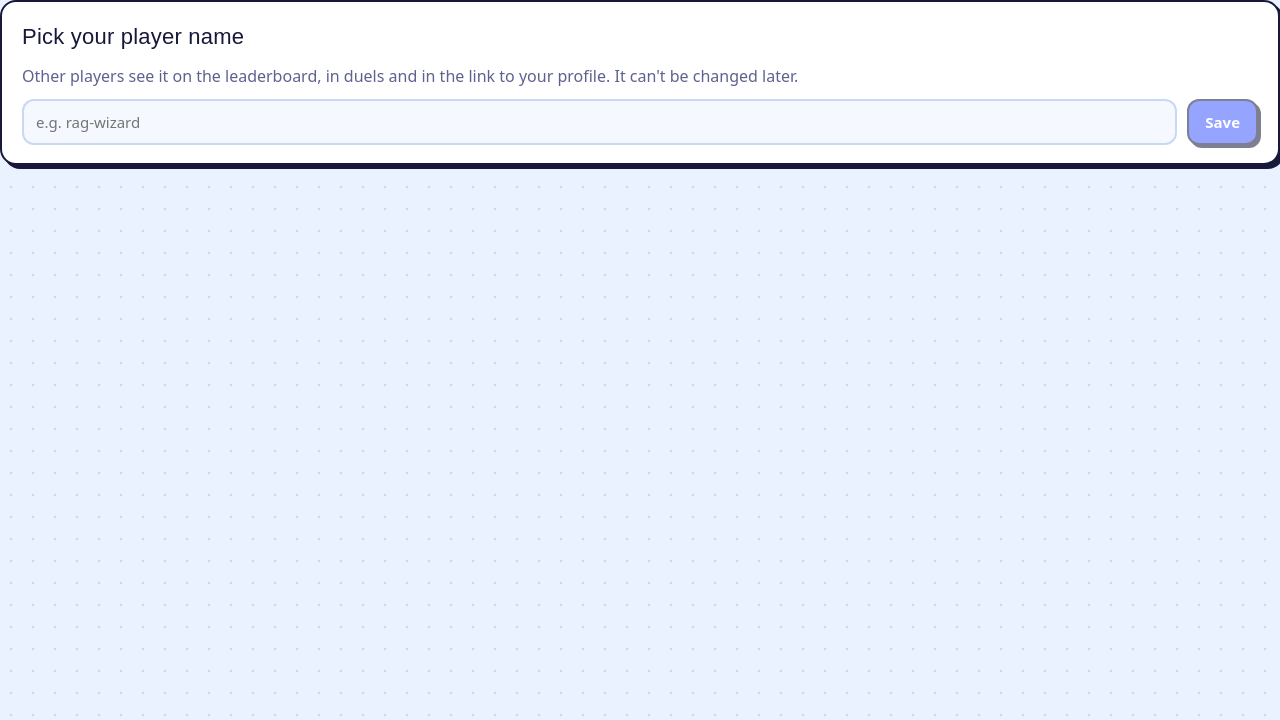
PlayerNameForm › checks the name before sending it
In the field named "Player name": (600,122) [22,99,1177,145], type "no spaces"
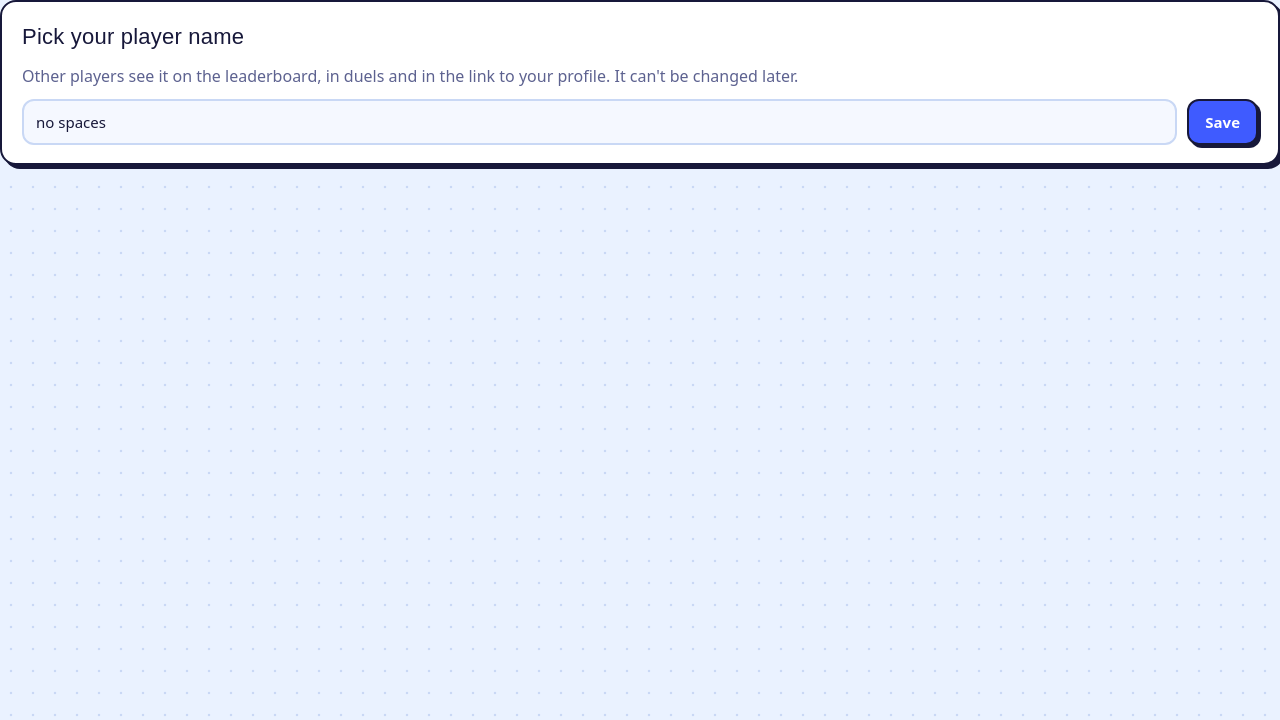
Click the button "Save": (1223,122) [1187,99,1258,145]
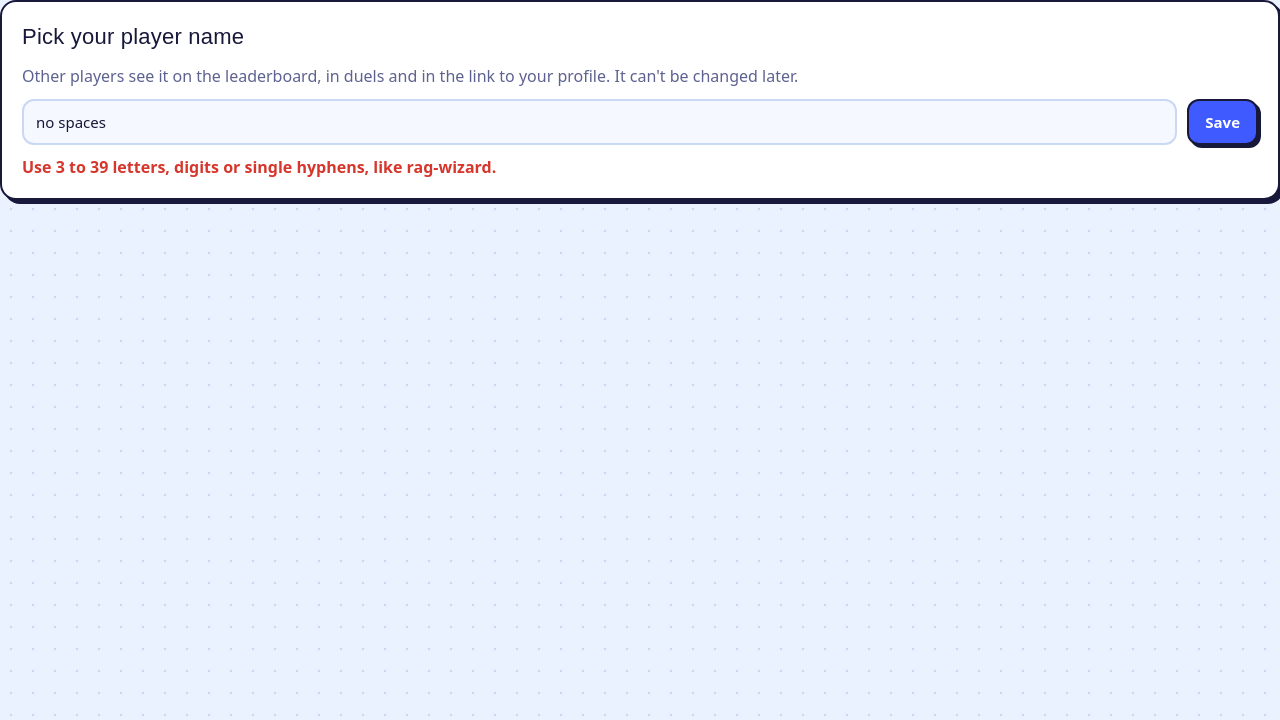
Expected: the message shows "3 to 39 letters", [22,156,496,178]
